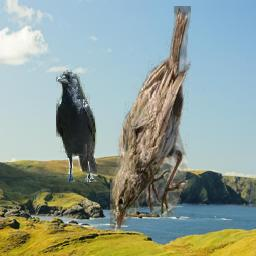Crow: (57, 70, 98, 182)
Sparrow: (111, 6, 192, 232)
